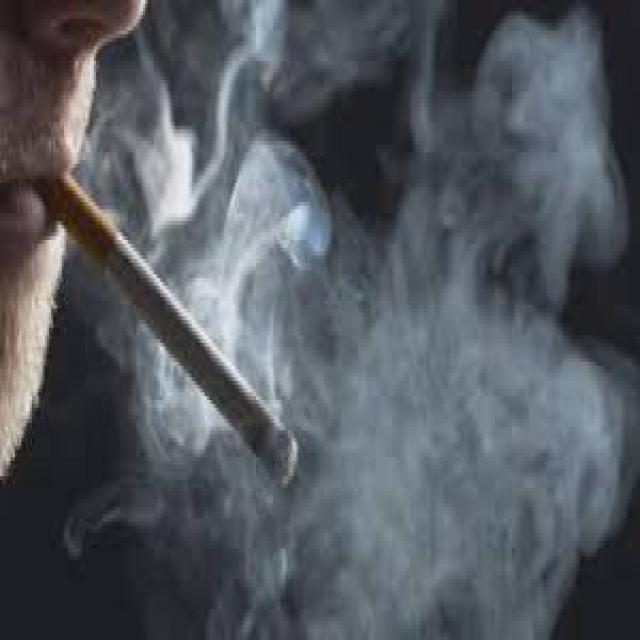smoke: (124, 4, 638, 636)
